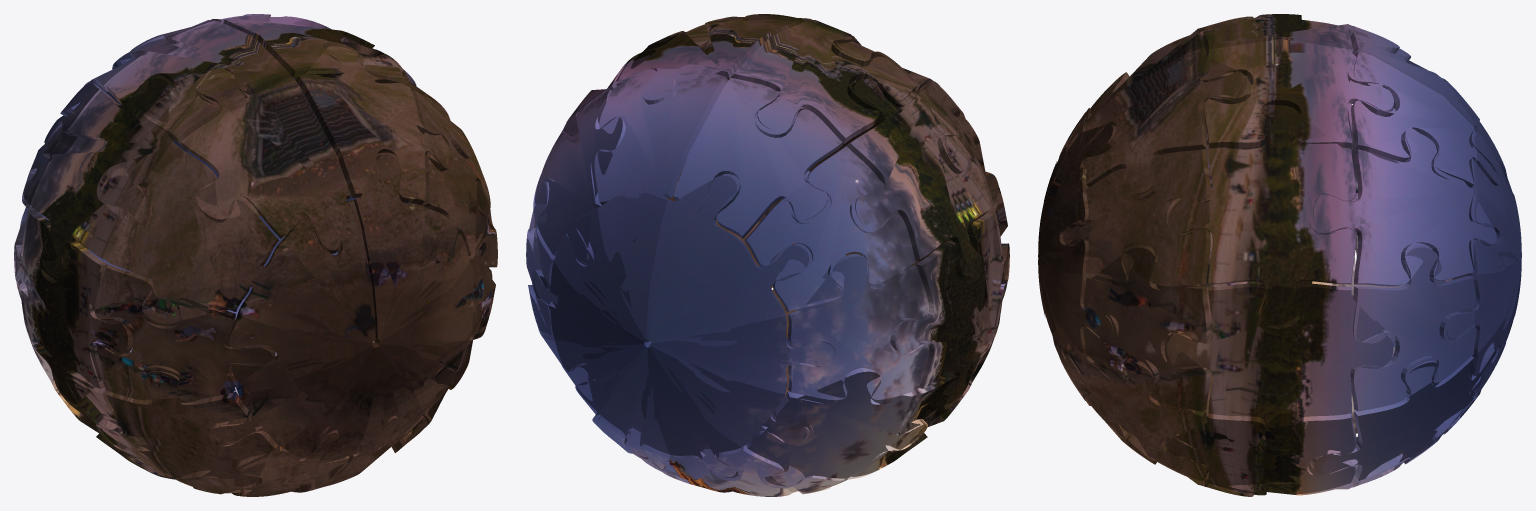
File: easy-puzzle-v24.fbx
The picture shows the model from 3 angles, left to right: view 1: azimuth 30°, elevation 25°; view 2: azimuth 150°, elevation 25°; view 3: azimuth 270°, elevation 25°; orthographic projection.
Parts seen in each view (by area): view 1: Puzzle.001, Puzzle.005, Puzzle.025, Puzzle.023, Puzzle.026, Puzzle.004, Puzzle.016, Puzzle.006, Puzzle.027, Puzzle.024, Puzzle.003, Puzzle.028 (+8 smaller); view 2: Puzzle.002, Puzzle.023, Puzzle.009, Puzzle.008, Puzzle.007, Puzzle.010, Puzzle.016, Puzzle.006, Puzzle.032, Puzzle.015, Puzzle.003, Puzzle.011 (+8 smaller); view 3: Puzzle.022, Puzzle.021, Puzzle.015, Puzzle.024, Puzzle.003, Puzzle.031, Puzzle.014, Puzzle.020, Puzzle.004, Puzzle.001, Puzzle.002, Puzzle.032 (+7 smaller).
Boxes of the visible parts, x1,y1,x2,y2 form: Puzzle.001: (214, 154, 490, 460); Puzzle.005: (180, 72, 350, 253); Puzzle.025: (101, 146, 278, 324); Puzzle.023: (31, 78, 177, 278); Puzzle.026: (94, 264, 275, 400); Puzzle.004: (295, 46, 449, 204); Puzzle.016: (15, 212, 133, 404); Puzzle.006: (106, 21, 290, 143); Puzzle.027: (100, 371, 277, 486); Puzzle.024: (412, 90, 489, 263); Puzzle.003: (223, 14, 406, 85); Puzzle.028: (179, 430, 356, 496); Puzzle.002: (533, 175, 835, 477); Puzzle.023: (846, 78, 991, 278); Puzzle.009: (787, 253, 929, 400); Puzzle.008: (744, 146, 915, 311); Puzzle.007: (673, 77, 842, 238); Puzzle.010: (746, 368, 923, 486); Puzzle.016: (890, 212, 1008, 404); Puzzle.006: (732, 21, 916, 143); Puzzle.032: (594, 68, 728, 232); Puzzle.015: (535, 90, 625, 264); Puzzle.003: (616, 14, 799, 104); Puzzle.011: (667, 445, 844, 496); Puzzle.022: (1166, 106, 1355, 329); Puzzle.021: (1167, 283, 1393, 450); Puzzle.015: (1313, 132, 1496, 286); Puzzle.024: (1063, 149, 1210, 286); Puzzle.003: (1204, 39, 1393, 148); Puzzle.031: (1083, 245, 1210, 411); Puzzle.014: (1350, 246, 1476, 411); Puzzle.020: (1166, 412, 1355, 493); Puzzle.004: (1084, 51, 1250, 195); Puzzle.001: (1038, 112, 1116, 400); Puzzle.002: (1447, 83, 1521, 423); Puzzle.032: (1351, 51, 1494, 187).
Size of the model in its own units: 330 by 331 by 331.
